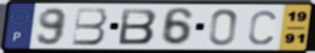0: (208, 7, 240, 47)
6: (160, 7, 195, 48)
9: (35, 7, 69, 46)
B: (117, 8, 159, 46), (71, 6, 109, 46)
C: (247, 9, 279, 46)
